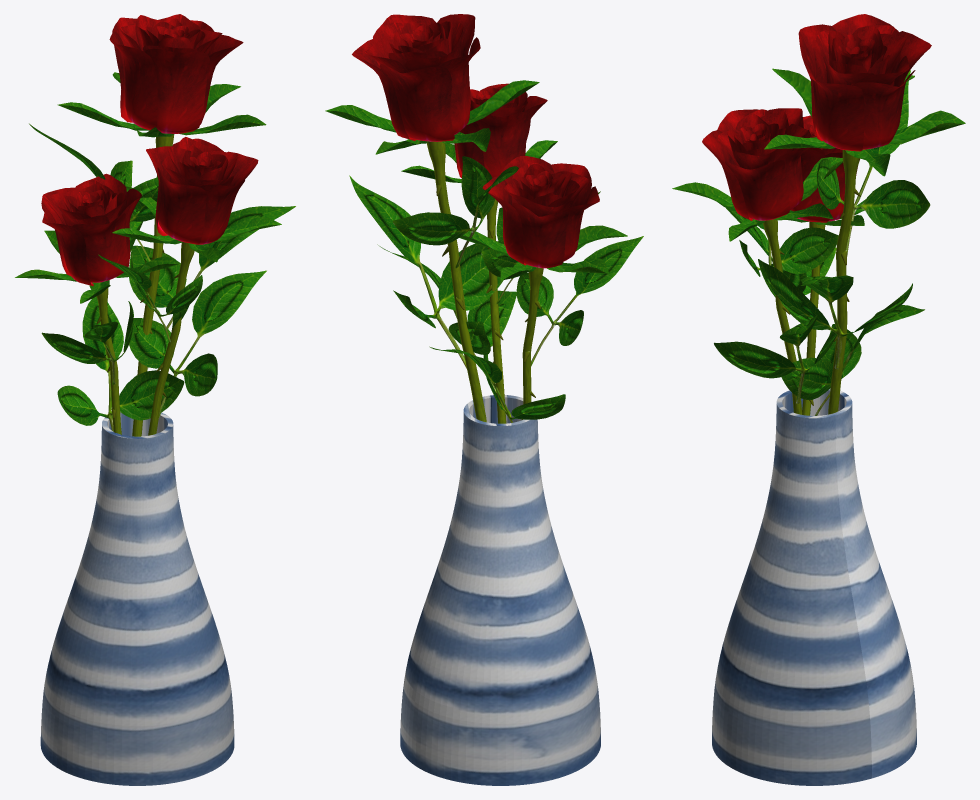
The model's file is jarron.obj.
3 renders of one model, left to right at view 1: azimuth 30°, elevation 25°; view 2: azimuth 150°, elevation 25°; view 3: azimuth 270°, elevation 25°, orthographic. The views are drawn at different scales.
Parts seen in each view (by area): view 1: Cilindro, rose.obj, rose.obj.002, rose.obj.001; view 2: Cilindro, rose.obj, rose.obj.001, rose.obj.002; view 3: Cilindro, rose.obj, rose.obj.002, rose.obj.001.
Part boxes in pixels (box(x1,y1,x2,y2)): Cilindro: box(40, 412, 234, 785); rose.obj: box(29, 14, 295, 436); rose.obj.002: box(98, 137, 281, 435); rose.obj.001: box(15, 173, 184, 434); Cilindro: box(400, 395, 600, 785); rose.obj: box(325, 14, 539, 422); rose.obj.001: box(429, 156, 643, 422); rose.obj.002: box(377, 83, 600, 423); Cilindro: box(712, 388, 916, 785); rose.obj: box(758, 14, 965, 414); rose.obj.002: box(672, 108, 842, 414); rose.obj.001: box(726, 115, 924, 415).
Bounding box in the file's own units: 0.3175 × 0.7882 × 0.2868.
Materials: 4 (4 with a texture image).
